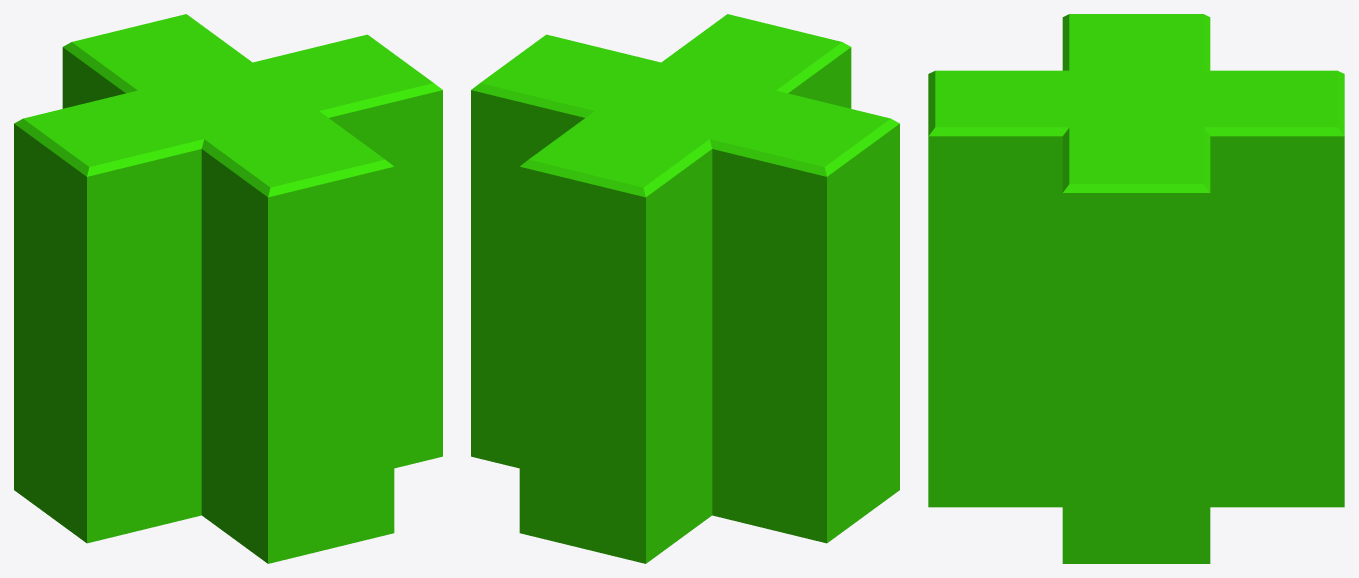
The model's file is basic_X_3.fbx.
3 views of the same model, side by side, from view 1: azimuth 30°, elevation 25°; view 2: azimuth 150°, elevation 25°; view 3: azimuth 270°, elevation 25° (orthographic).
Visible parts, largest first — view 1: basic_X_3; view 2: basic_X_3; view 3: basic_X_3.
Boxes of the visible parts, bbox=[...] form: basic_X_3: bbox=[14, 14, 442, 563]; basic_X_3: bbox=[471, 14, 899, 563]; basic_X_3: bbox=[928, 14, 1344, 563].
Size of the model in its own units: 310 by 310 by 310.
